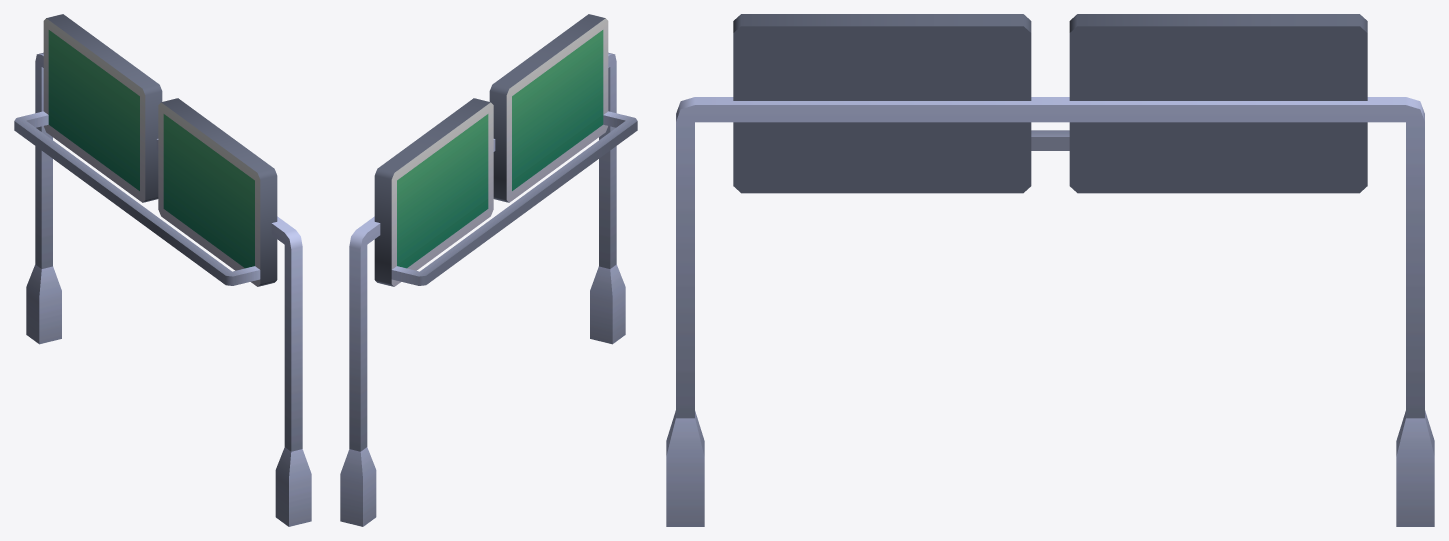
Rendered from sign-highway.glb.
3 renders of one model, left to right at view 1: azimuth 30°, elevation 25°; view 2: azimuth 150°, elevation 25°; view 3: azimuth 270°, elevation 25°, orthographic. The views are drawn at different scales.
Visible parts, largest first — view 1: sign-highway; view 2: sign-highway; view 3: sign-highway.
Boxes of the visible parts, box(x1,y1,x2,y2) form: sign-highway: box(14, 14, 311, 526); sign-highway: box(340, 14, 637, 526); sign-highway: box(666, 14, 1434, 526).
Bounding box in the file's own units: 0.1324 × 0.7074 × 1.
Materials: 1 (1 with a texture image).
